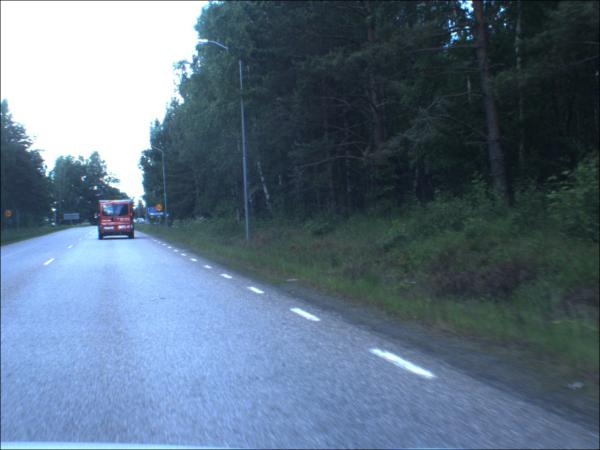50_SIGN: (6, 211, 14, 219), (157, 205, 164, 213)
